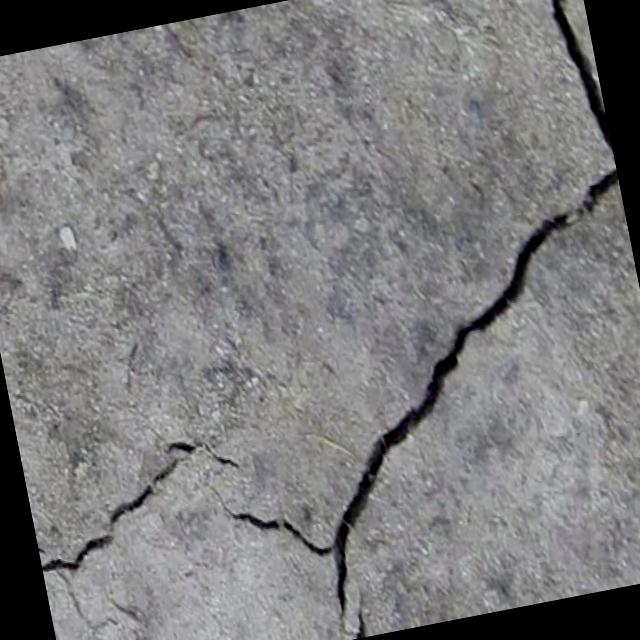crack: (159, 0, 640, 640), (24, 427, 268, 640)
